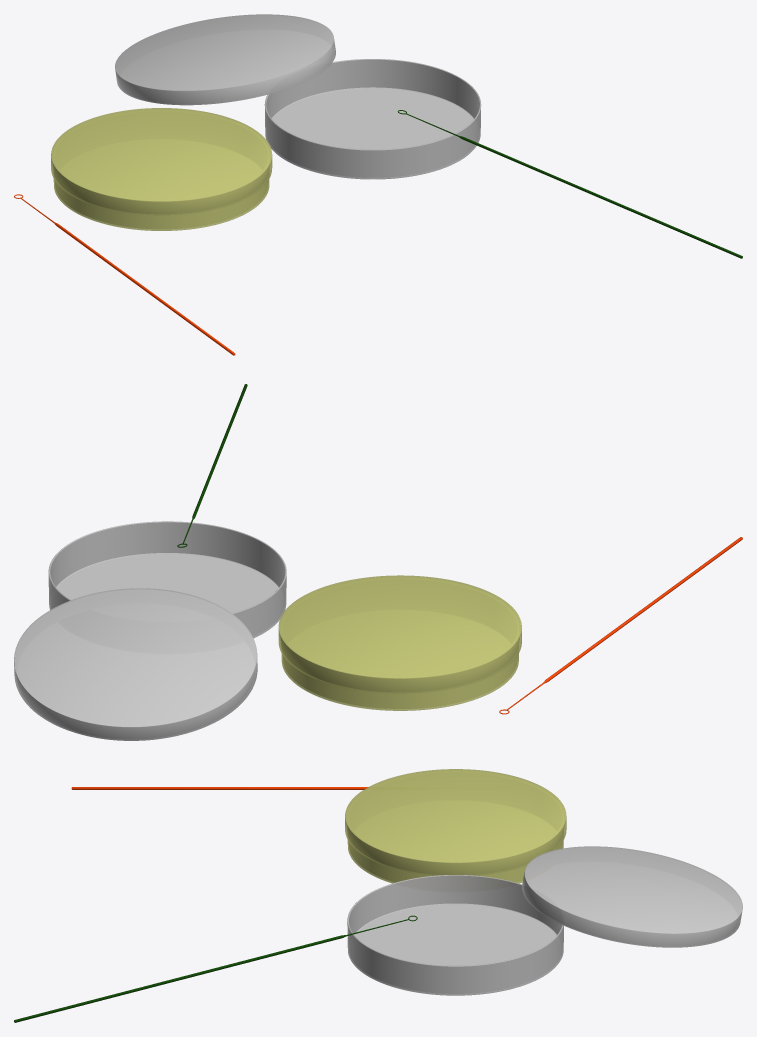
The model's file is petridish_and_loop.glb.
The picture shows the model from 3 angles, top to bottom: view 1: azimuth 30°, elevation 25°; view 2: azimuth 150°, elevation 25°; view 3: azimuth 270°, elevation 25°; orthographic projection. The views are drawn at different scales.
Visible parts, largest first — view 1: Circle.002, Circle.001, Torus.001, Torus; view 2: Circle.002, Circle.001, Torus, Torus.001; view 3: Circle.002, Circle.001, Torus.001, Torus.
Part boxes in pixels (x1=…): Circle.002: x1=115, y1=14, x2=481, y2=179; Circle.001: x1=51, y1=108, x2=272, y2=230; Torus.001: x1=397, y1=110, x2=742, y2=258; Torus: x1=14, y1=194, x2=235, y2=355; Circle.002: x1=14, y1=521, x2=286, y2=740; Circle.001: x1=278, y1=575, x2=521, y2=710; Torus: x1=499, y1=537, x2=742, y2=714; Torus.001: x1=177, y1=384, x2=247, y2=547; Circle.002: x1=347, y1=846, x2=742, y2=995; Circle.001: x1=345, y1=769, x2=566, y2=883; Torus.001: x1=14, y1=915, x2=417, y2=1022; Torus: x1=71, y1=787, x2=368, y2=789.
Bounding box in the file's own units: 0.3699 × 0.036 × 0.4815.
Materials: 4 (2 with a texture image).
